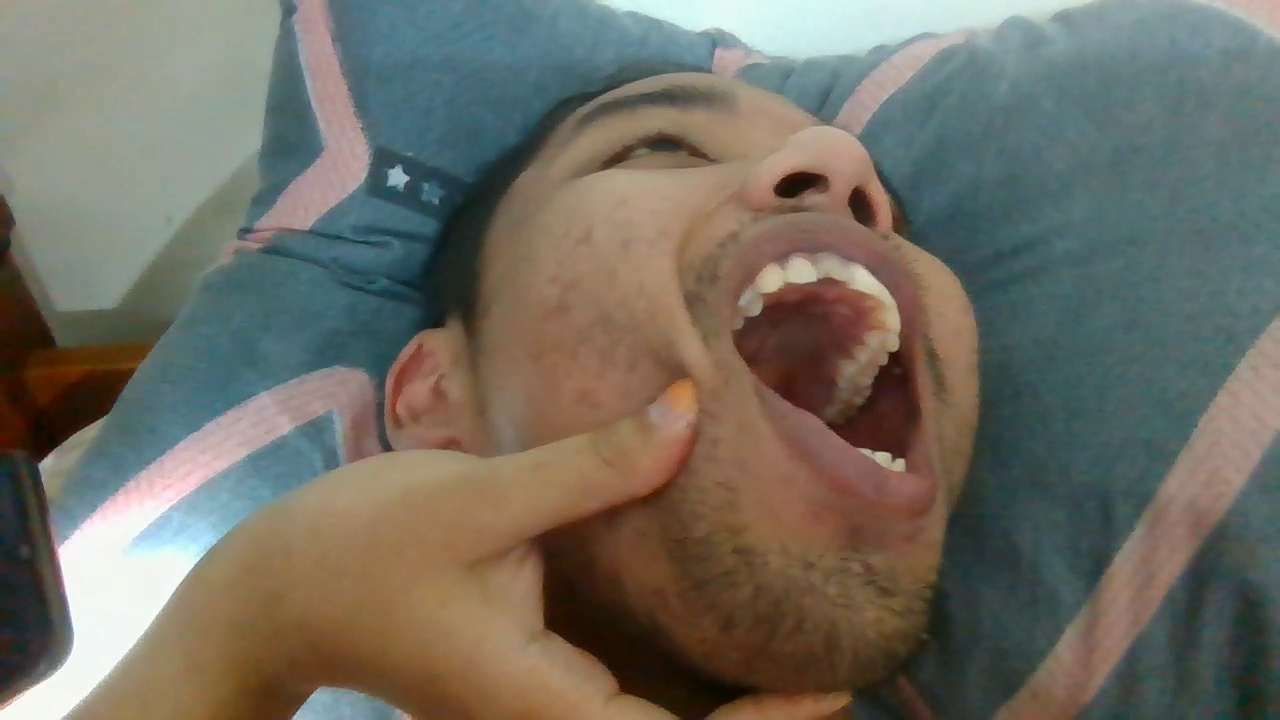1st Molar: (834, 359, 879, 385)
1st Premolar: (863, 329, 901, 351), (738, 284, 763, 316)
2nd Molar: (834, 384, 870, 405)
2nd Premolar: (852, 346, 889, 366)
3rd Molar: (823, 405, 861, 425)
Canine: (754, 260, 786, 293), (868, 305, 903, 333)
Central Incisor: (815, 248, 853, 284), (849, 262, 878, 297)
Lateral Incisor: (784, 252, 817, 284), (870, 286, 897, 305)
